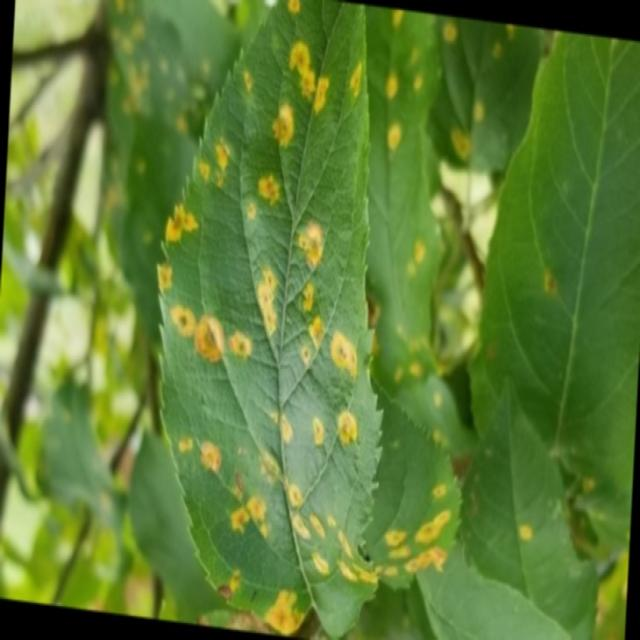Gymnosporangium_Rusts: (136, 18, 438, 584)
